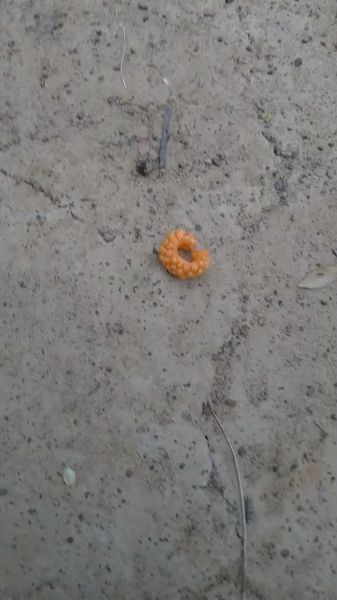eggs: (153, 223, 210, 279)
